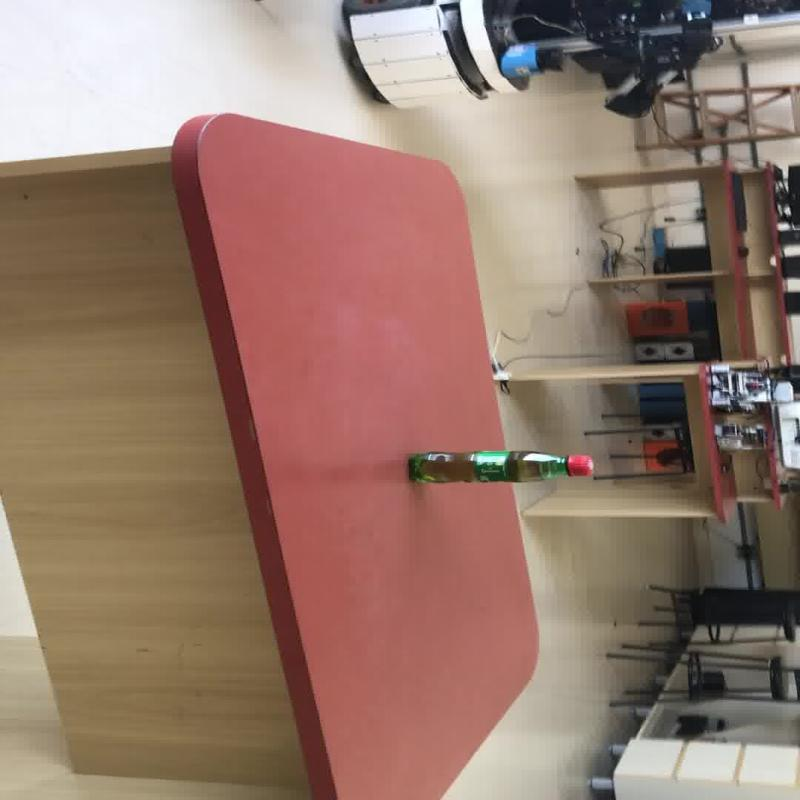guarana: (406, 448, 594, 484)
